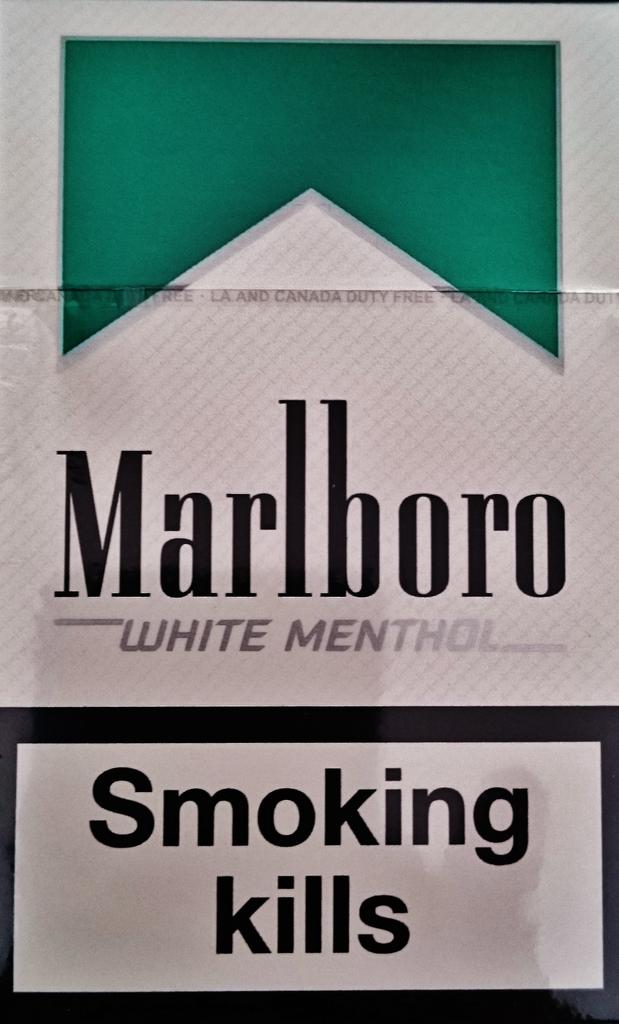marlboro_mentol: (2, 2, 616, 1019)
